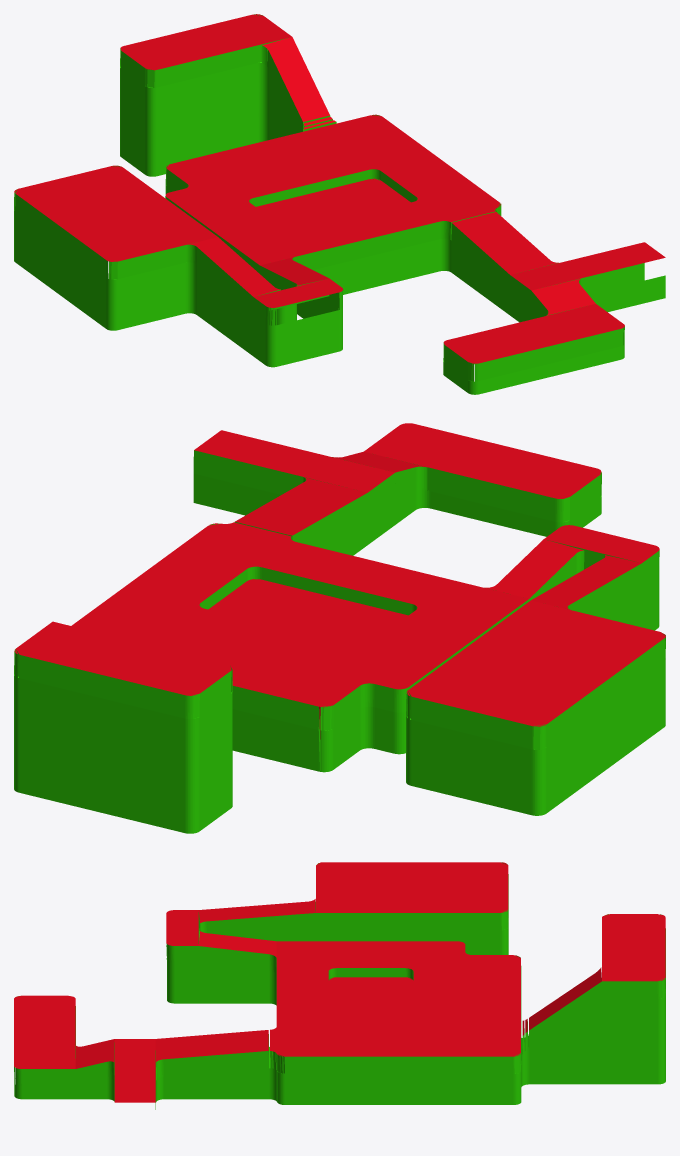
Rendered from CuevaB36.fbx.
3 renders of one model, top to bottom at view 1: azimuth 30°, elevation 25°; view 2: azimuth 150°, elevation 25°; view 3: azimuth 270°, elevation 25°, orthographic. The views are drawn at different scales.
Visible parts, largest first — view 1: Cube.004; view 2: Cube.004; view 3: Cube.004.
Part boxes in pixels (bbox=[...]): Cube.004: bbox=[14, 14, 665, 394]; Cube.004: bbox=[14, 423, 665, 833]; Cube.004: bbox=[14, 862, 665, 1109].
Bounding box in the file's own units: 21.25 × 27.49 × 4.8.
